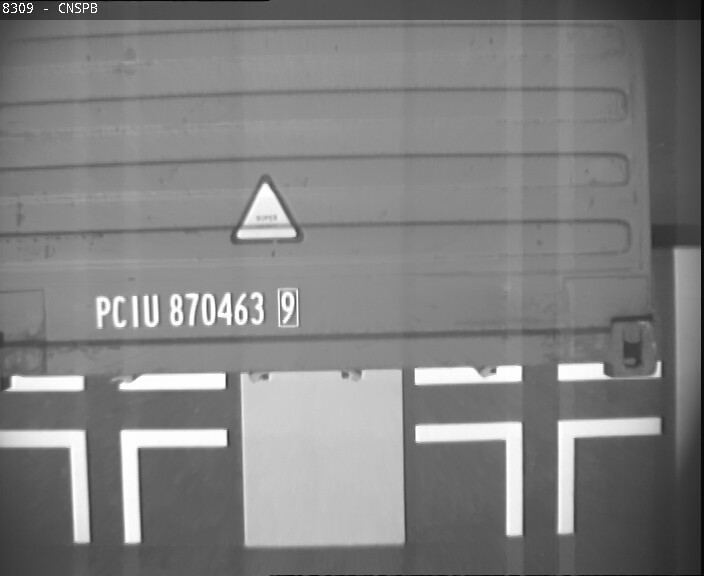groundmarker_1: (414, 415, 661, 535), (1, 428, 228, 543)
